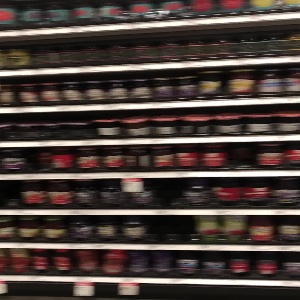void: (144, 217, 196, 244), (225, 139, 254, 172), (157, 178, 183, 213)
